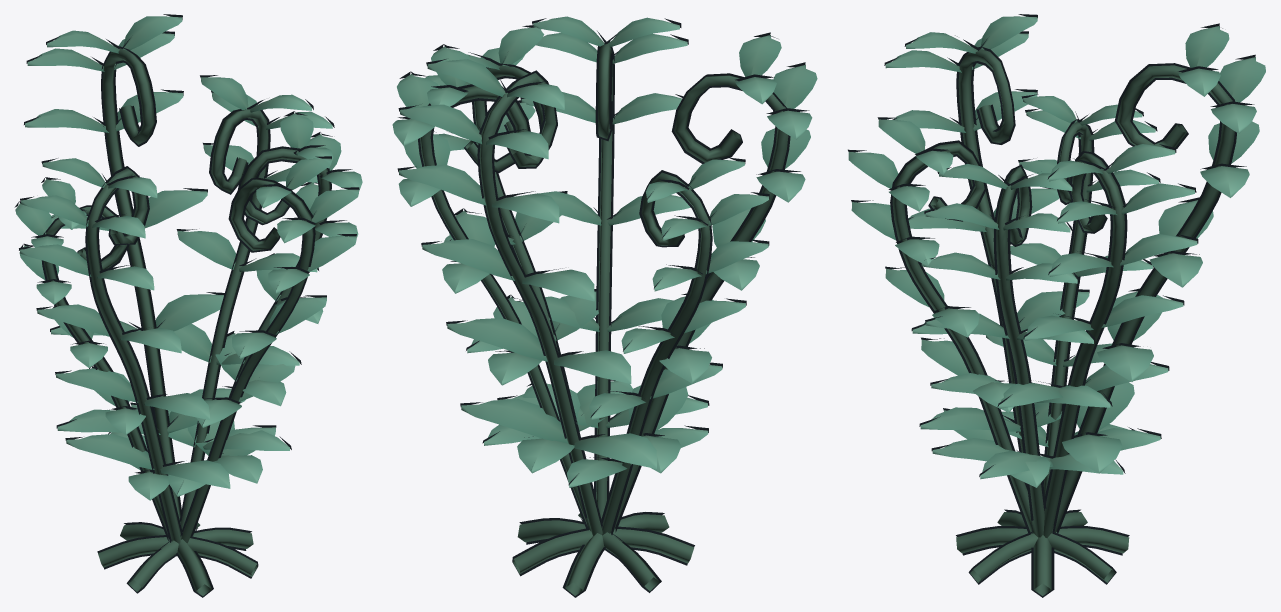
File: curled-cave-fern.glb
The picture shows the model from 3 angles, left to right: view 1: azimuth 30°, elevation 25°; view 2: azimuth 150°, elevation 25°; view 3: azimuth 270°, elevation 25°; orthographic projection. The views are drawn at different scales.
Parts seen in each view (by area): view 1: Fern_leaf, Fern_stem, Fern_stem_ink, Fern_leaf_ink; view 2: Fern_leaf, Fern_stem, Fern_stem_ink, Fern_leaf_ink; view 3: Fern_leaf, Fern_stem, Fern_stem_ink, Fern_leaf_ink.
Part boxes in pixels (x1,y1,x2,y2): Fern_leaf: (15,16,362,500); Fern_stem: (44,48,329,595); Fern_stem_ink: (41,46,331,597); Fern_leaf_ink: (14,14,359,493); Fern_leaf: (392,16,817,487); Fern_stem: (420,43,788,595); Fern_stem_ink: (418,41,790,597); Fern_leaf_ink: (397,18,809,485); Fern_leaf: (848,16,1265,487); Fern_stem: (892,49,1234,595); Fern_stem_ink: (890,46,1236,597); Fern_leaf_ink: (848,14,1255,476).
Size of the model in its own units: 7.62 by 10.71 by 7.84.
